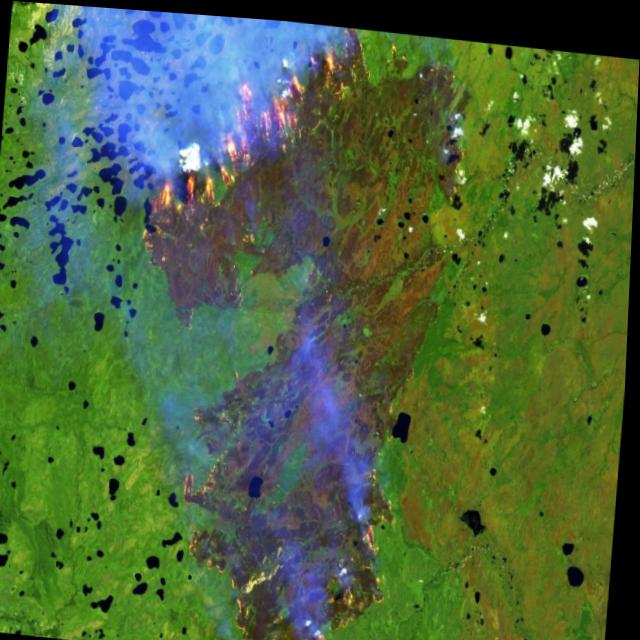fire: (128, 8, 432, 284), (157, 424, 405, 640)
